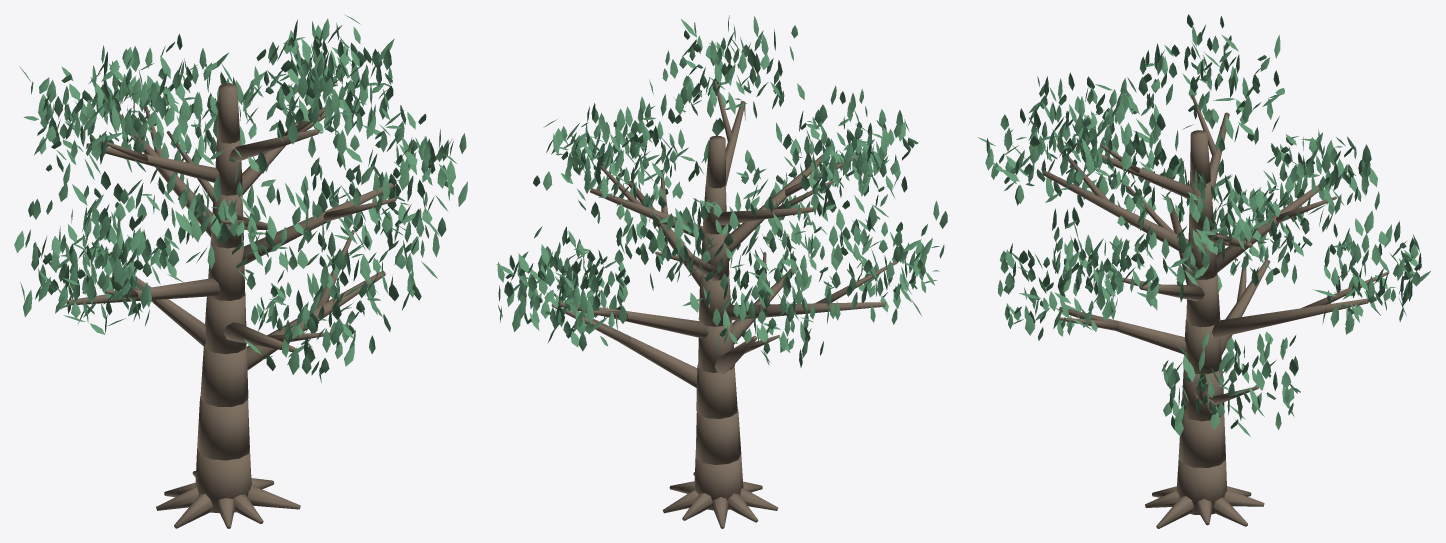
The model's file is forest_tree_1.glb.
The picture shows the model from 3 angles, left to right: view 1: azimuth 30°, elevation 25°; view 2: azimuth 150°, elevation 25°; view 3: azimuth 270°, elevation 25°; orthographic projection. The views are drawn at different scales.
Visible parts, largest first — view 1: ForestTree1; view 2: ForestTree1; view 3: ForestTree1.
Boxes of the visible parts, x1,y1,x2,y2 form: ForestTree1: (14,14,467,528); ForestTree1: (496,15,947,528); ForestTree1: (977,14,1430,528).
Size of the model in its own units: 7.88 by 8.75 by 7.99.
